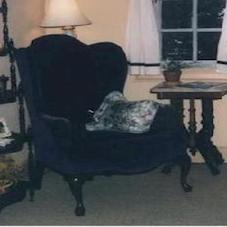chair: (10, 29, 211, 215)
